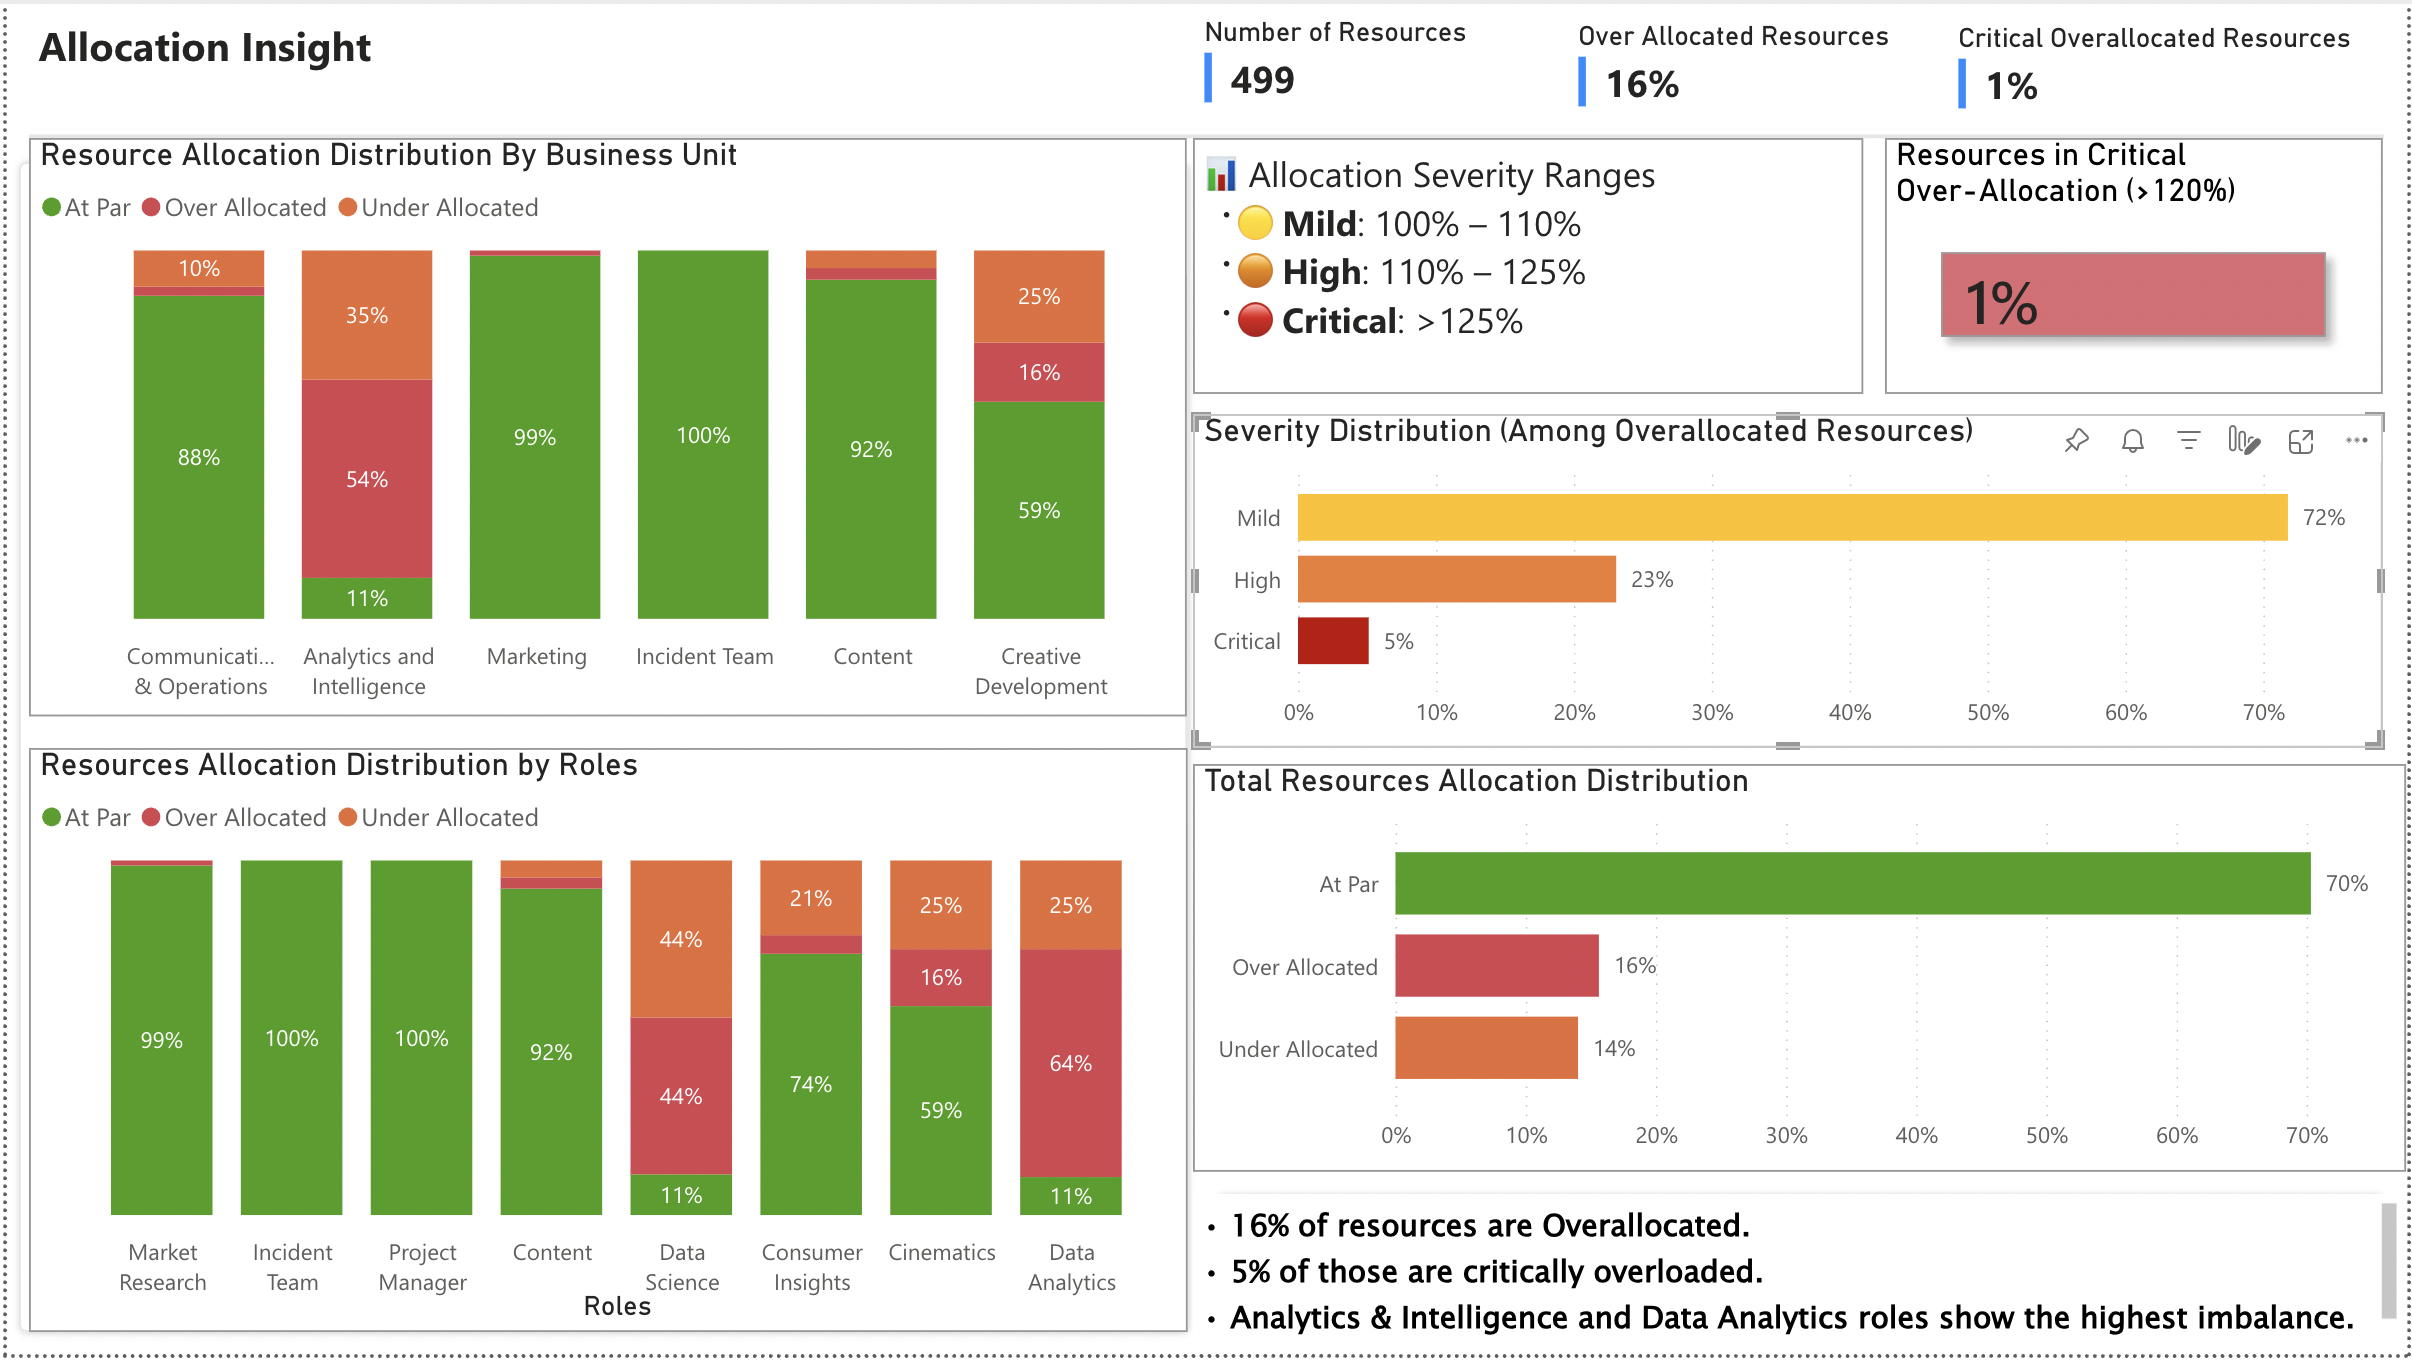

The dashboard page shown, as its layout file describes it:
{"tool":"powerbi","page":{"name":"Page 1","canvas":[1280,720],"ordinal":0},"visuals":[{"type":"shape","box":[12,58,1256,26],"z":0},{"type":"shape","box":[12,84,622,624],"z":1000},{"type":"shape","box":[645.7,451.2,597.4,256.8],"z":3000},{"type":"hundredPercentStackedColumnChart","title":"Number of Resources by Roles","fields":{"Category":["Table.Roles"],"Series":["Table.Under/Over/Par"],"Y":["CountNonNull(Table.Resource ID)"]},"box":[20.3,359.7,612.7,348.3],"z":5000},{"type":"clusteredBarChart","title":"Number of Resources Allocated Over / Under/ At Par","fields":{"Category":["Table.Under/Over/Par"],"Y":["Table.Allocation %"]},"box":[654.6,451.2,588.5,245.3],"z":6000},{"type":"clusteredBarChart","title":"Over-Allocation Severity Distribution","fields":{"Category":["Table.Severity"],"Y":["Table.Severity %"]},"box":[640.6,218.6,602.5,222.4],"z":7000},{"type":"hundredPercentStackedColumnChart","title":"Number of Resource By Business Unit","fields":{"Category":["Table.BU"],"Series":["Table.Under/Over/Par"],"Y":["CountNonNull(Table.Resource ID)"]},"box":[20.3,96.6,601.2,242.8],"z":9000},{"type":"multiRowCard","fields":{"Values":["Sum(Table.Sports-All)"]},"box":[1069,12,199,50],"z":10000},{"type":"multiRowCard","fields":{"Values":["CountNonNull(Table.Resource ID)"]},"box":[858,12,199,50],"z":11000},{"type":"textbox","box":[12,33,306,32],"z":12000},{"type":"textbox","box":[12,2,306,39],"z":13000},{"type":"textbox","box":[640.6,83.9,326.7,124.6],"z":13001},{"type":"cardVisual","box":[100,100,300,300],"z":13002},{"type":"kpi","fields":{"Indicator":["Table.Critical %"]},"box":[1002.9,83.9,190.7,124.6],"z":13003}]}

Visuals, with their boxes in screenshot pixels (x1, y1, x2, y2), scaled from the page's 1280x720 canvas onto the 2412x1364 screenshot:
shape: detection(23, 110, 2389, 159)
shape: detection(23, 159, 1195, 1341)
shape: detection(1217, 855, 2342, 1341)
"Number of Resources by Roles" hundredPercentStackedColumnChart: detection(38, 681, 1193, 1341)
"Number of Resources Allocated Over / Under/ At Par" clusteredBarChart: detection(1234, 855, 2342, 1319)
"Over-Allocation Severity Distribution" clusteredBarChart: detection(1207, 414, 2342, 835)
"Number of Resource By Business Unit" hundredPercentStackedColumnChart: detection(38, 183, 1171, 643)
multiRowCard - Sum(Table.Sports-All): detection(2014, 23, 2389, 117)
multiRowCard - CountNonNull(Table.Resource ID): detection(1617, 23, 1992, 117)
textbox: detection(23, 63, 599, 123)
textbox: detection(23, 4, 599, 78)
textbox: detection(1207, 159, 1823, 395)
cardVisual: detection(188, 189, 754, 758)
kpi - Table.Critical %: detection(1890, 159, 2249, 395)
